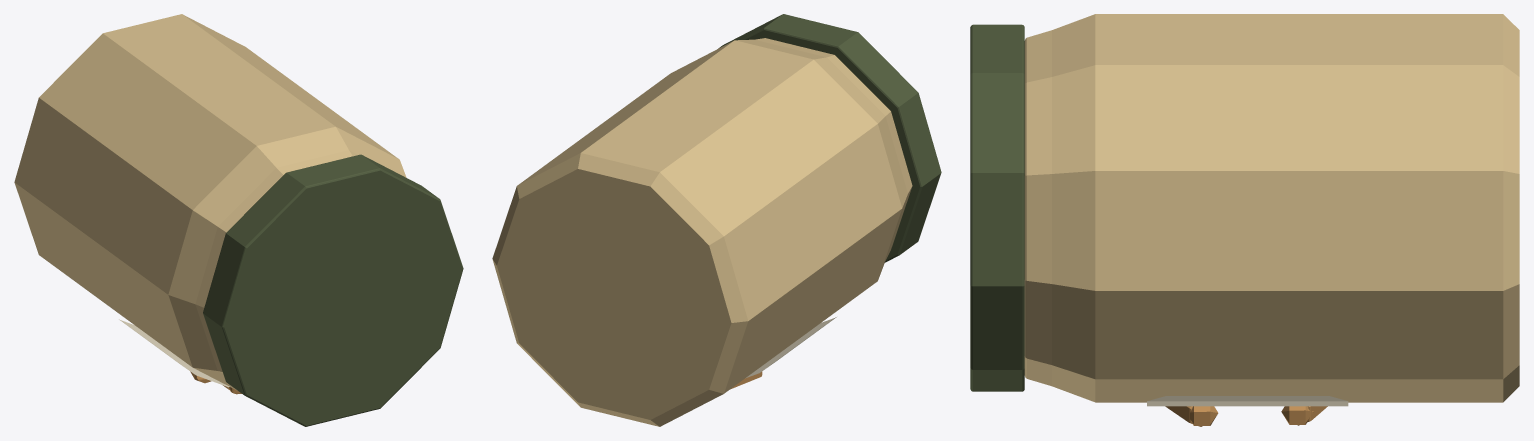
Rendered from cashew_butter.glb.
3 views of the same model, side by side, from view 1: azimuth 30°, elevation 25°; view 2: azimuth 150°, elevation 25°; view 3: azimuth 270°, elevation 25° (orthographic). The views are drawn at different scales.
Parts seen in each view (by area): view 1: cashew_butter; view 2: cashew_butter; view 3: cashew_butter.
Boxes of the visible parts, bbox=[...] form: cashew_butter: bbox=[14, 14, 463, 426]; cashew_butter: bbox=[492, 14, 941, 426]; cashew_butter: bbox=[970, 14, 1519, 426].
Bounding box in the file's own units: 0.072 × 0.0752 × 0.101.
